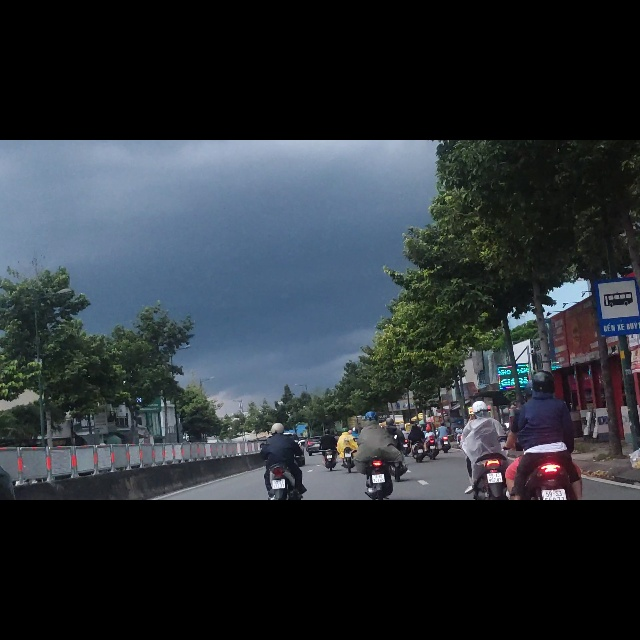bien_nguy_hiem: (594, 242, 640, 352)
